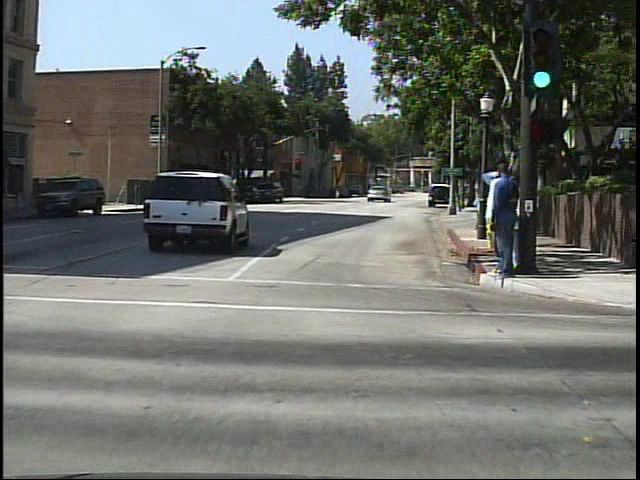person: (477, 166, 510, 282), (488, 156, 516, 282), (332, 183, 343, 200)
